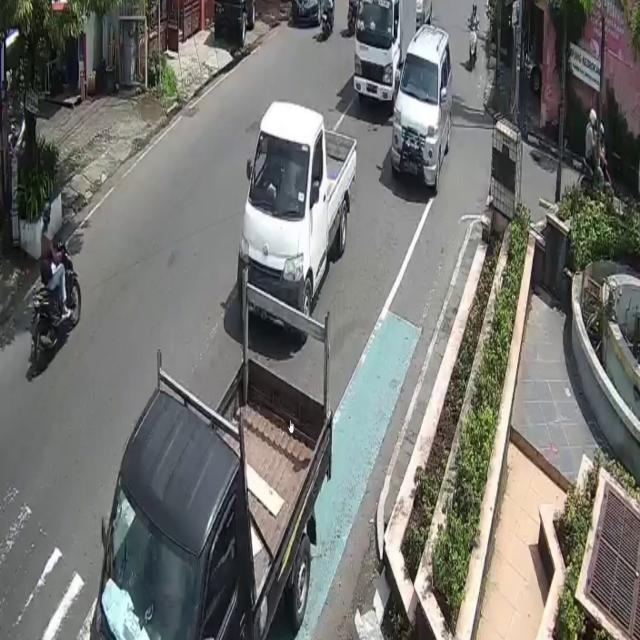bus: (33, 241, 82, 367), (582, 153, 612, 198)
motorcycle: (92, 357, 333, 640), (238, 100, 358, 343), (392, 23, 451, 195)
truck: (354, 0, 417, 110)
